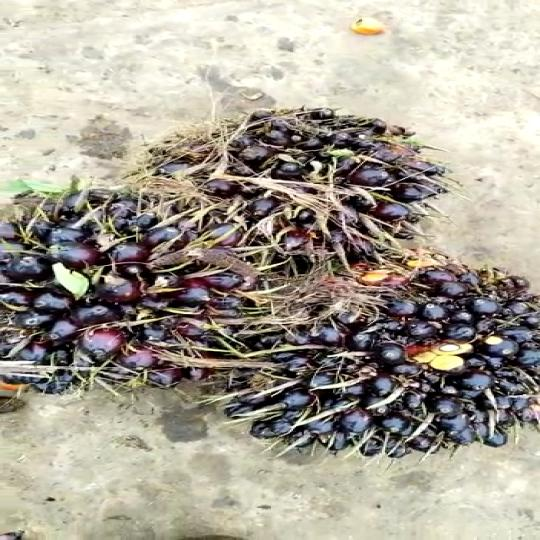mentah: (236, 249, 535, 458), (148, 93, 465, 288), (0, 171, 264, 390)
